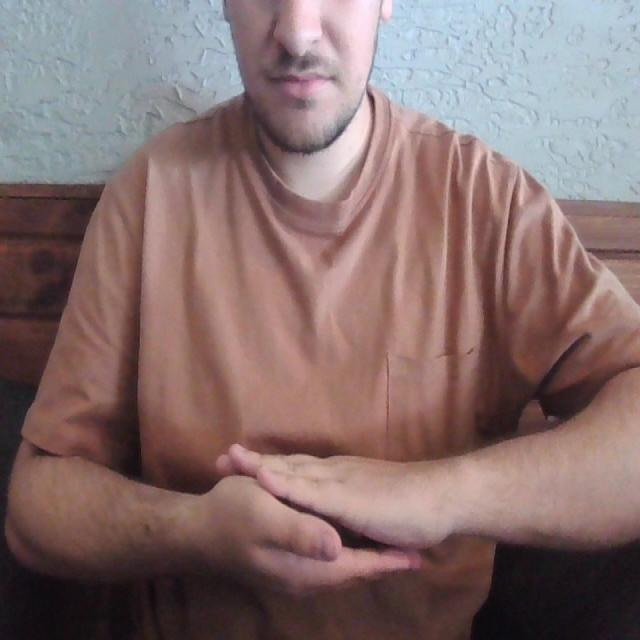Arkadas: (85, 431, 529, 595)
